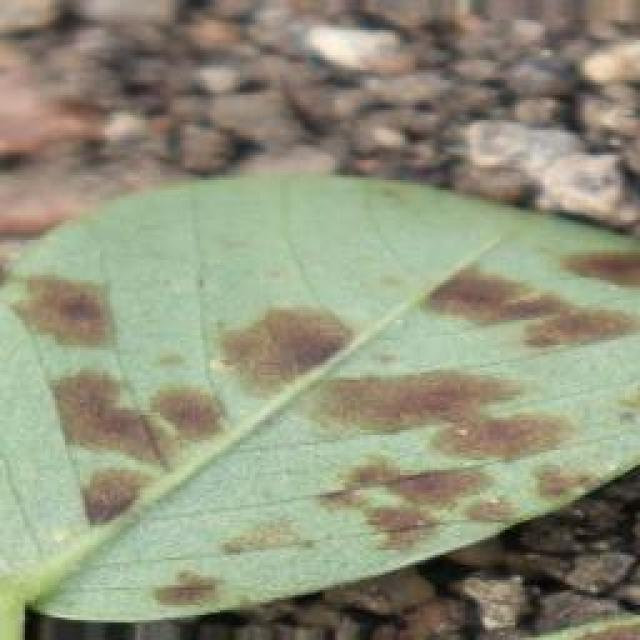Whitefly: (0, 199, 640, 602)
